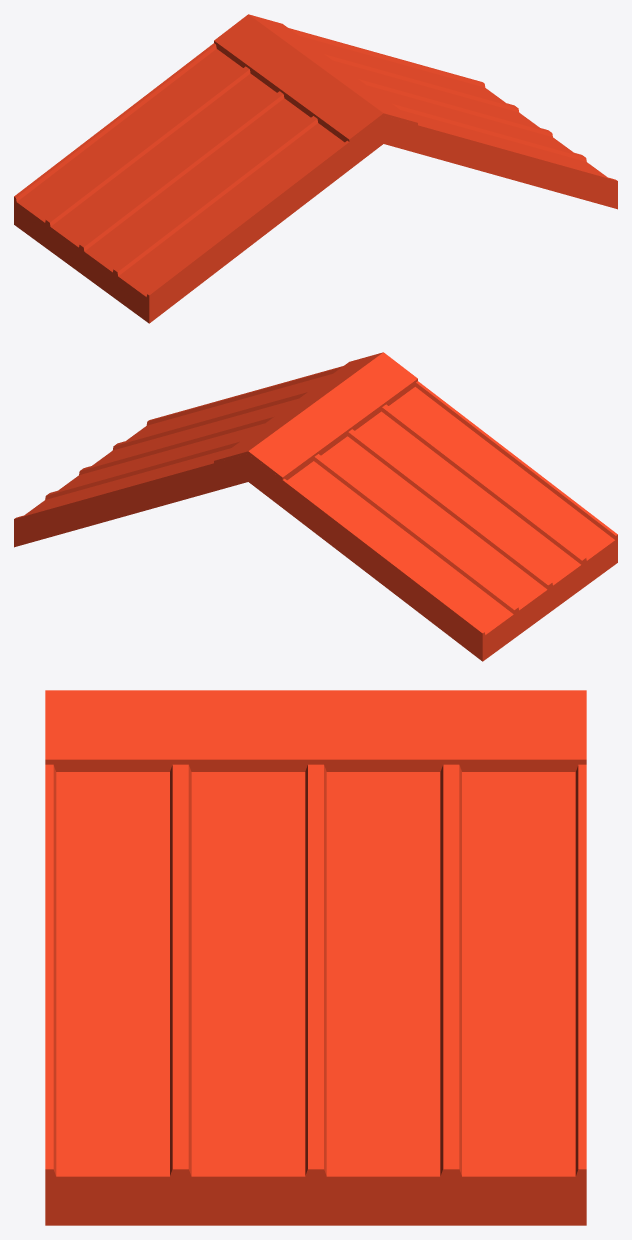
File: roof-metal-moderate-2x2m-center.fbx
The picture shows the model from 3 angles, top to bottom: view 1: azimuth 30°, elevation 25°; view 2: azimuth 150°, elevation 25°; view 3: azimuth 270°, elevation 25°; orthographic projection. The views are drawn at different scales.
Parts seen in each view (by area): view 1: roof-metal-moderate-2x2m-center; view 2: roof-metal-moderate-2x2m-center; view 3: roof-metal-moderate-2x2m-center.
Part boxes in pixels (x1=…): roof-metal-moderate-2x2m-center: x1=14, y1=14, x2=617, y2=323; roof-metal-moderate-2x2m-center: x1=14, y1=352, x2=617, y2=661; roof-metal-moderate-2x2m-center: x1=45, y1=690, x2=586, y2=1225.
Bounding box in the file's own units: 4 × 1.25 × 2.
